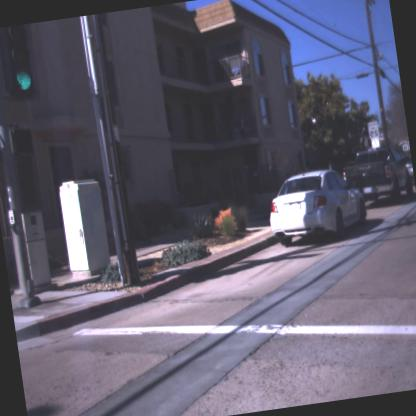trafficlight: (0, 23, 38, 99)
